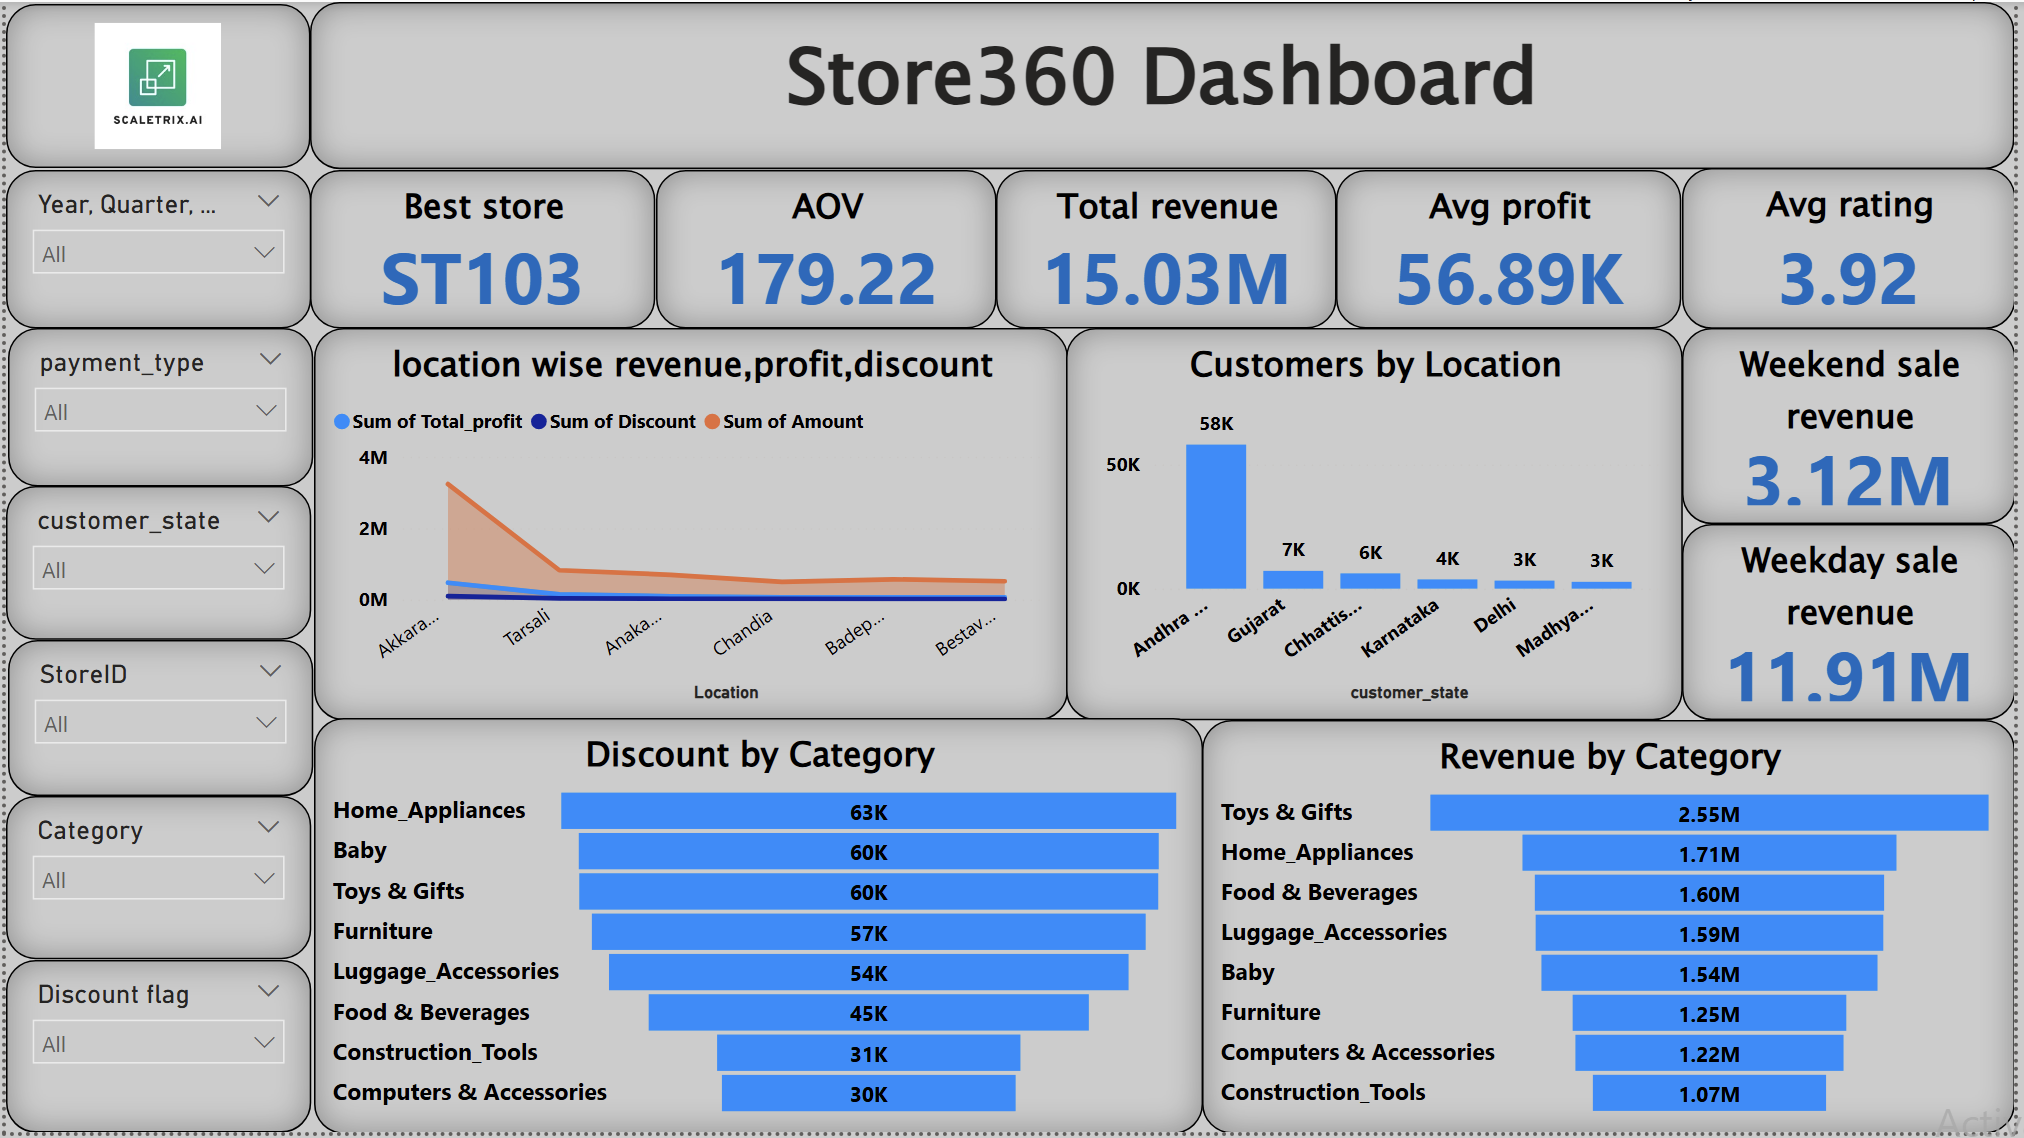

This screenshot's page, from the dashboard's own definition file:
{"tool":"powerbi","page":{"name":"Store360","canvas":[1280,720],"ordinal":2},"visuals":[{"type":"textbox","box":[193.8,0,1085.9,106.2],"z":0},{"type":"image","box":[0,1.6,193.8,104.7],"z":1000},{"type":"slicer","fields":{"Values":["Order360new.order_date.Variation.Date Hierarchy.Year","Order360new.order_date.Variation.Date Hierarchy.Quarter","Order360new.order_date.Variation.Date Hierarchy.Month","Order360new.order_date.Variation.Date Hierarchy.Day"]},"box":[0,106.9,194.3,100.9],"z":2000},{"type":"slicer","fields":{"Values":["Order360new.payment_type"]},"box":[1.5,207.9,194.3,100.9],"z":3000},{"type":"slicer","fields":{"Values":["Customer360new.customer_state"]},"box":[0,308.8,194.3,97.9],"z":4000},{"type":"slicer","fields":{"Values":["stores360new.StoreID"]},"box":[1.5,406.7,194.3,99.4],"z":5000},{"type":"card","title":"Best store","fields":{"Values":["stores360new.Top Performing Store"]},"box":[194.3,106.9,219.9,100.9],"z":6000},{"type":"card","title":"AOV","fields":{"Values":["Avg(stores360new.Average_order_value)"]},"box":[414.2,106.9,216.9,100.9],"z":7000},{"type":"card","title":"Total revenue","fields":{"Values":["Sum(stores360new.Amount)"]},"box":[631.1,106.9,216.9,100.9],"z":8000},{"type":"card","title":"Avg profit","fields":{"Values":["Avg(stores360new.Total_profit)"]},"box":[848,106.9,219.9,100.9],"z":9000},{"type":"areaChart","title":"location wise revenue,profit,discount","fields":{"Y":["Sum(stores360new.Total_profit)","Sum(stores360new.Discount)","Sum(stores360new.Amount)"],"Category":["stores360new.Location"]},"box":[195.8,207.9,480.5,250],"z":10000},{"type":"slicer","fields":{"Values":["Productsinfo.Category"]},"box":[0,506.1,194.3,103.9],"z":11000},{"type":"funnel","title":"Revenue by Category","fields":{"Y":["Sum(cleanedOrders.Total_Amount)"],"Category":["Productsinfo.Category"]},"box":[762.2,457.9,518.2,263.6],"z":12000},{"type":"columnChart","title":"Customers by Location","fields":{"Y":["CountNonNull(Customer360new.Custid)"],"Category":["Customer360new.customer_state"]},"box":[674.8,207.9,393.1,250],"z":13000},{"type":"card","title":"Weekday sale revenue","fields":{"Values":["Sum(stores360new.Weekday_sale)"]},"box":[1067.9,332.9,212.4,125],"z":14000},{"type":"card","title":"Weekend sale revenue","fields":{"Values":["Sum(stores360new.Weekend_sales)"]},"box":[1067.9,207.9,212.4,125],"z":15000},{"type":"card","title":"Avg rating","fields":{"Values":["Avg(stores360new.Average_rating_per_customer)"]},"box":[1067.9,105.4,212.4,102.4],"z":16000},{"type":"funnel","title":"Discount by Category","fields":{"Category":["Productsinfo.Category"],"Y":["Sum(cleanedOrders.Discount)"]},"box":[195.8,456.4,566.4,265.1],"z":17000},{"type":"slicer","fields":{"Values":["Customer360new.Discount flag"]},"box":[0,610,194.3,110],"z":18000}]}

Visuals, with their boxes in screenshot pixels (x1, y1, x2, y2), scaled from the page's 1280x720 canvas onto the 2024x1138 screenshot:
textbox: 306 0 2023 168
image: 0 3 306 168
slicer - Order360new.order_date.Variation.Date Hierarchy.Year x Order360new.order_date.Variation.Date Hierarchy.Quarter: 0 169 307 328
slicer - Order360new.payment_type: 2 329 310 488
slicer - Customer360new.customer_state: 0 488 307 643
slicer - stores360new.StoreID: 2 643 310 800
"Best store" card: 307 169 655 328
"AOV" card: 655 169 998 328
"Total revenue" card: 998 169 1341 328
"Avg profit" card: 1341 169 1689 328
"location wise revenue,profit,discount" areaChart: 310 329 1069 724
slicer - Productsinfo.Category: 0 800 307 964
"Revenue by Category" funnel: 1205 724 2023 1137
"Customers by Location" columnChart: 1067 329 1689 724
"Weekday sale revenue" card: 1689 526 2023 724
"Weekend sale revenue" card: 1689 329 2023 526
"Avg rating" card: 1689 167 2023 328
"Discount by Category" funnel: 310 721 1205 1137
slicer - Customer360new.Discount flag: 0 964 307 1137
